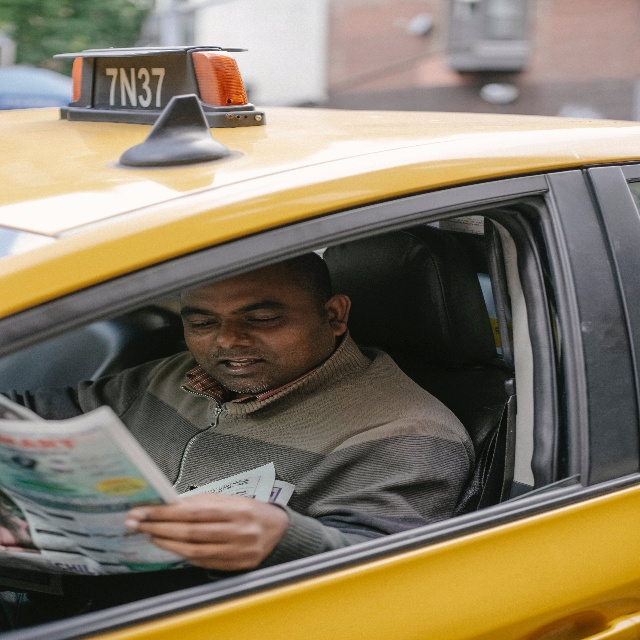Sin_guantes: (125, 491, 288, 572)
